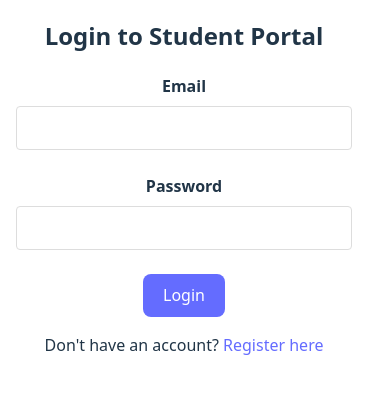
it: LoginPage › should clear validation errors when user starts typing
The width and height of the screenshot is (369, 411).
Note: Trigger validation error
Submit the form, box [16,74,352,317]
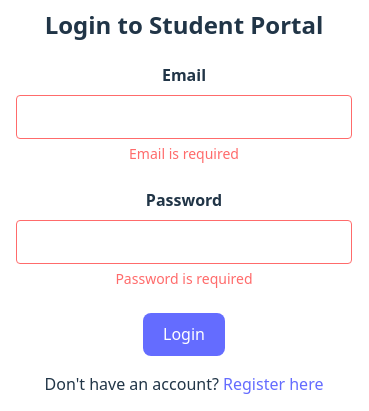
Check: the text "Email is required" is shown, box [129,144,239,163]
Note: Start typing to clear error
Type "test" into the field labelled "Email".
click(184, 117); type("test")  # box [16,95,352,139]
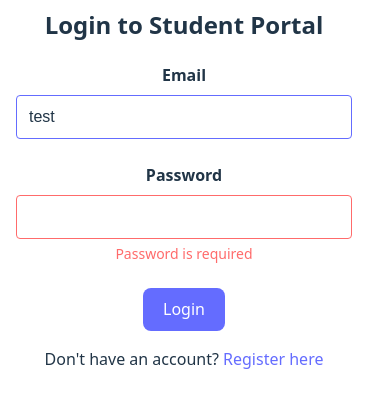
Check: the text "Email is required" is gone
